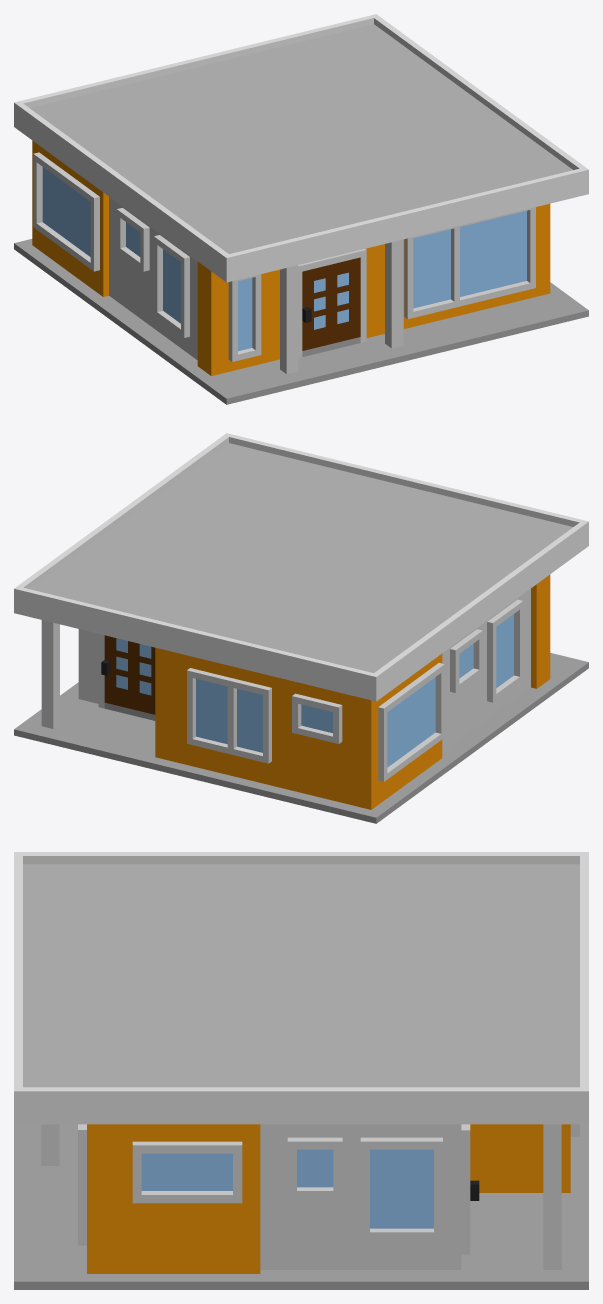
The model's file is obj_house1b.obj.
3 renders of one model, top to bottom at view 1: azimuth 30°, elevation 25°; view 2: azimuth 150°, elevation 25°; view 3: azimuth 270°, elevation 25°, orthographic. The views are drawn at different scales.
Size of the model in its own units: 6.2 by 2.4 by 6.3.
Materials: 1 (1 with a texture image).
